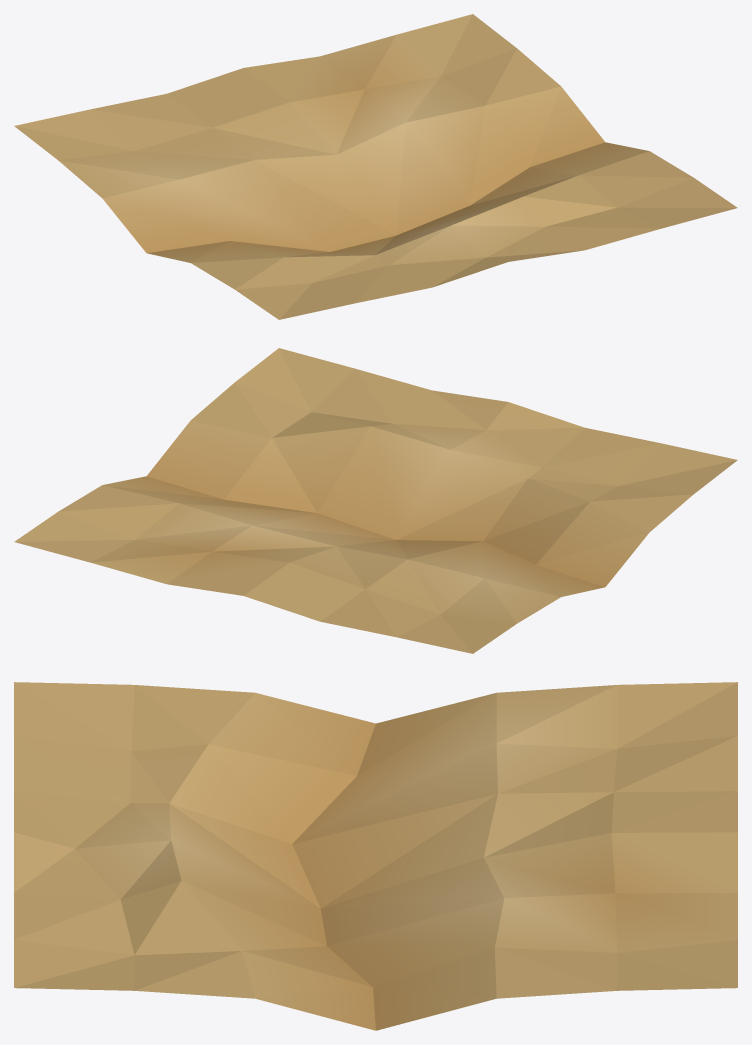
The model's file is Mixed_Ground_05.fbx.
3 renders of one model, top to bottom at view 1: azimuth 30°, elevation 25°; view 2: azimuth 150°, elevation 25°; view 3: azimuth 270°, elevation 25°, orthographic. The views are drawn at different scales.
Visible parts, largest first — view 1: Ground_05.001; view 2: Ground_05.001; view 3: Ground_05.001.
Part boxes in pixels (x1=…): Ground_05.001: x1=14, y1=14, x2=737, y2=319; Ground_05.001: x1=14, y1=348, x2=737, y2=653; Ground_05.001: x1=14, y1=682, x2=737, y2=1030.
Size of the model in its own units: 1000 by 120 by 1000.
